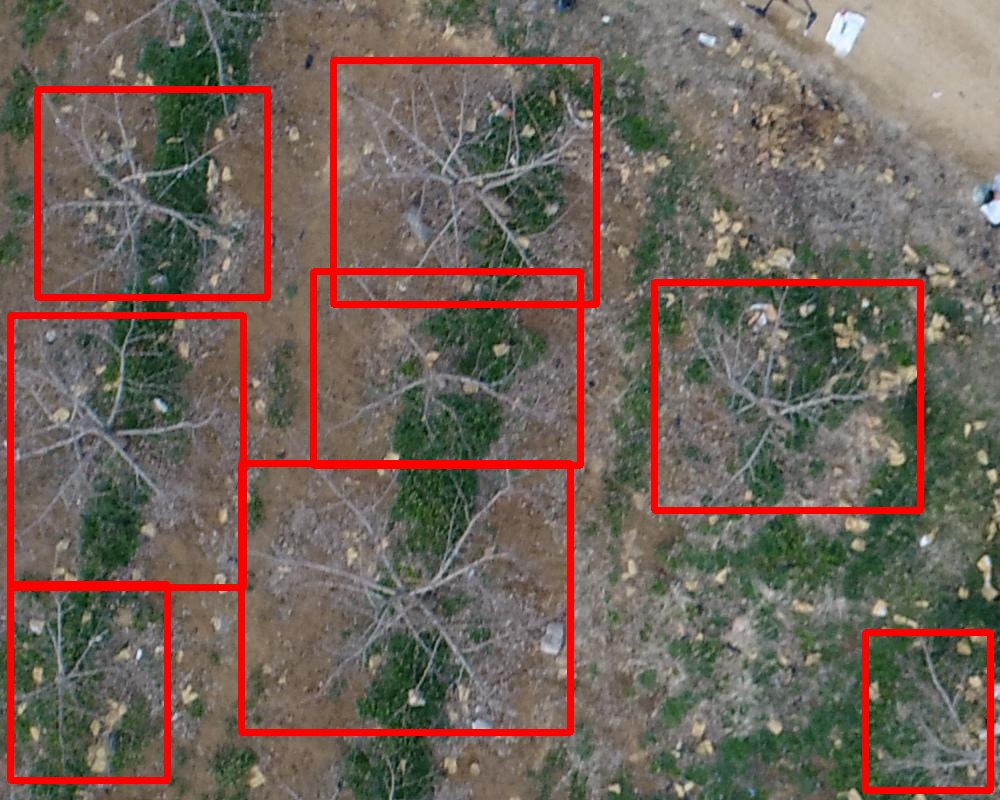apple: (241, 463, 570, 732), (333, 60, 596, 304), (10, 315, 243, 587), (654, 282, 920, 510), (313, 271, 580, 465), (37, 89, 267, 297), (10, 584, 167, 780), (865, 632, 990, 790)
